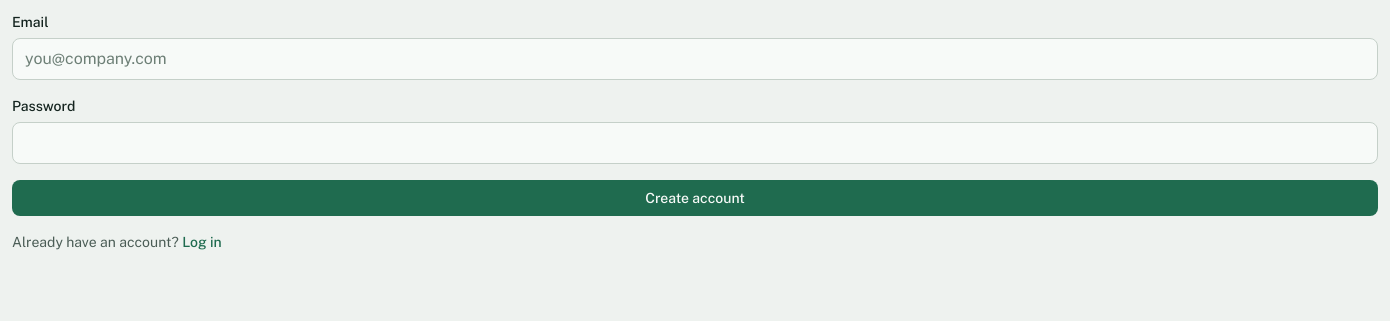
SignupForm › shows a confirmation message when one is returned
The width and height of the screenshot is (1390, 321).
Type "user@example.com" into the field labelled "Email" at coordinates (695, 59), box [12,38,1378,80]
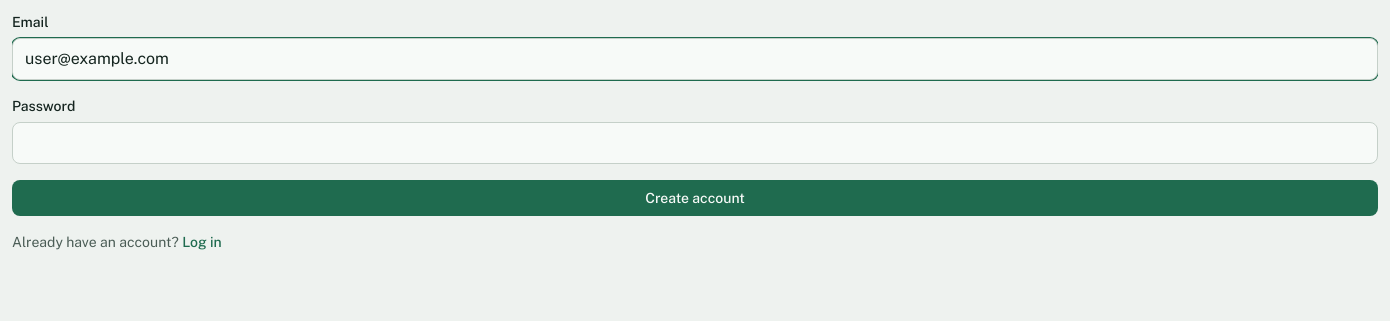
Type "hunter2hunter2" into the password field labelled "Password" at coordinates (695, 143), box [12,122,1378,164]
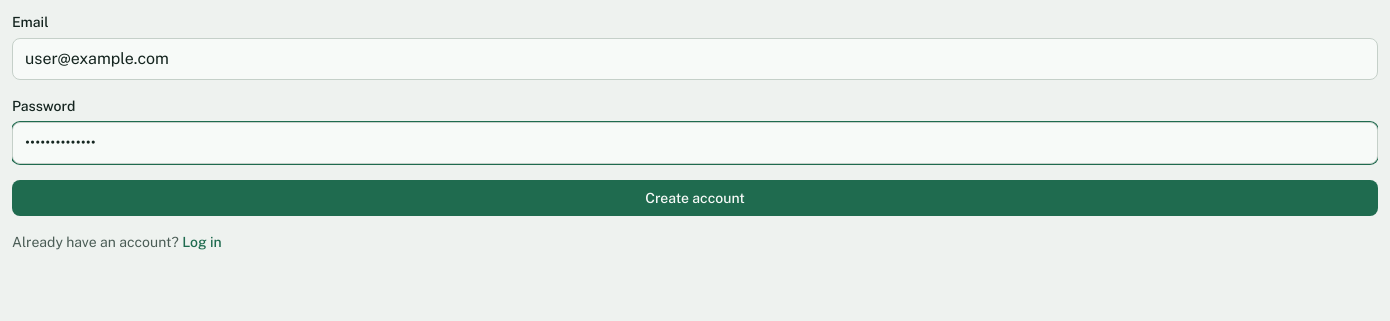
Click the button "Create account" at coordinates (695, 198), box [12,180,1378,216]
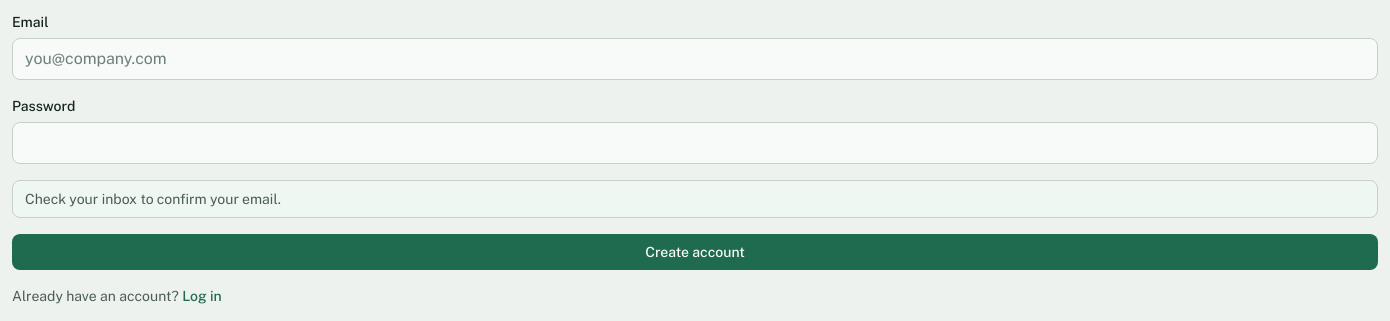
Expected: the text "Check your inbox to confirm your email." is shown, [12,180,1378,218]
